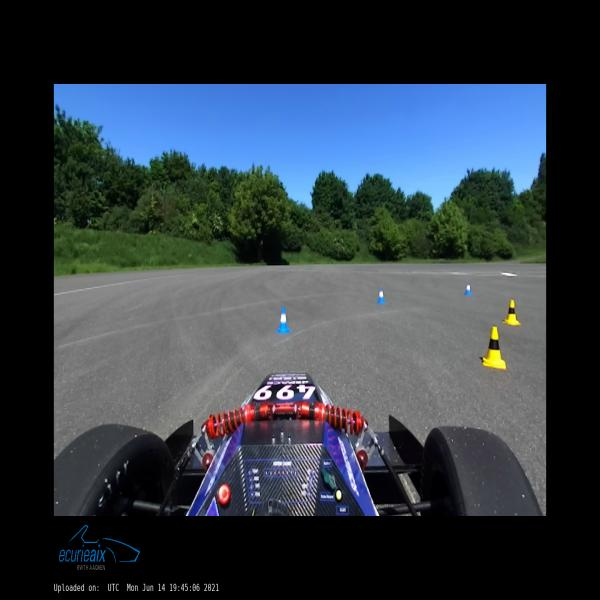blue_cone: (276, 307, 291, 333), (377, 288, 385, 304), (464, 282, 472, 294)
yellow_cone: (482, 326, 506, 370), (503, 299, 520, 326)
